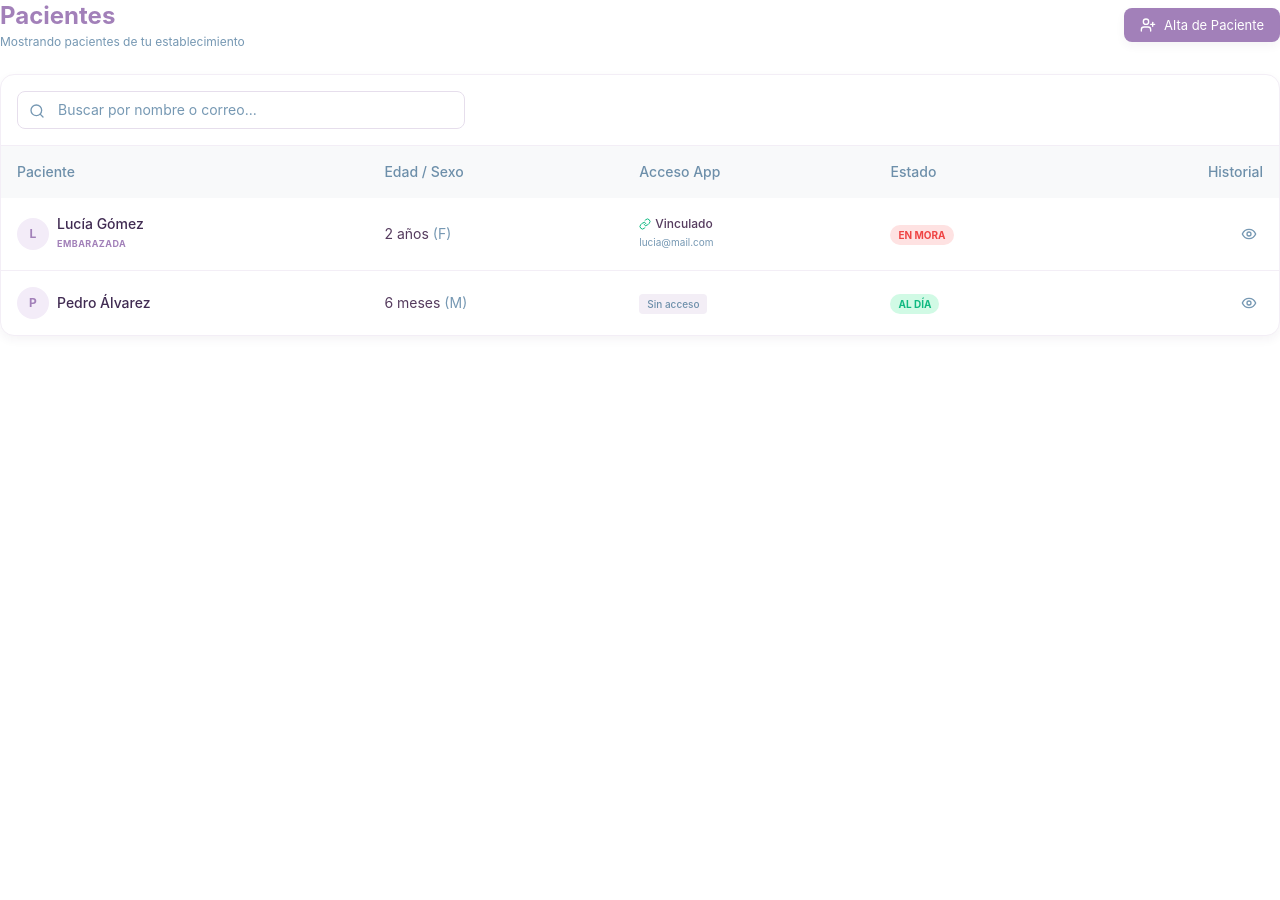
Test: PatientsView – historial de vacunación › indica "Próx. dosis" cuando la fecha aún no vence
Click the button titled "Ver historial" in the row of "Lucía Gómez": [1249, 234] box [1235,220,1263,248]
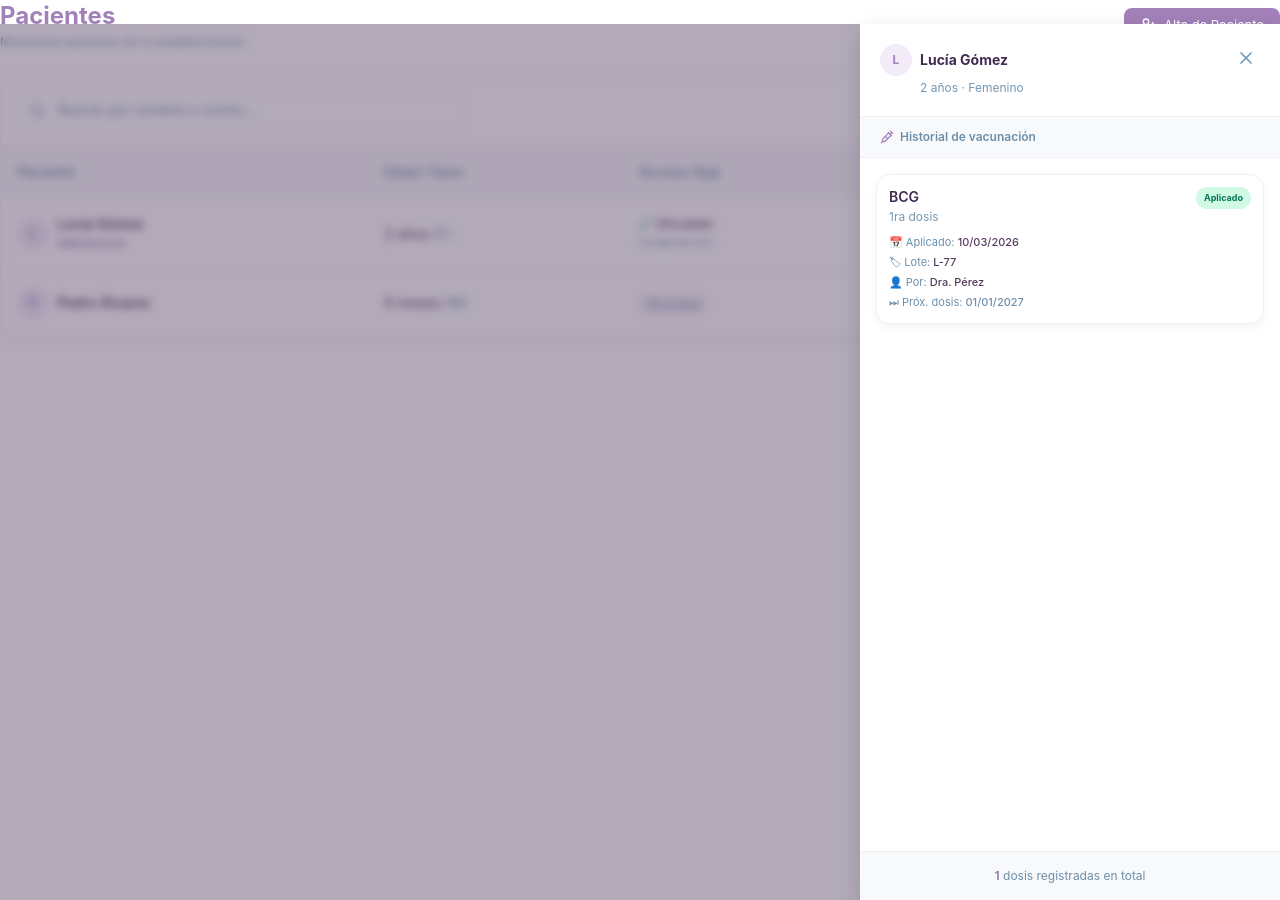
Check: the text "⏭ Próx. dosis: 01/01/2027" is shown, box [889,295,1024,309]
